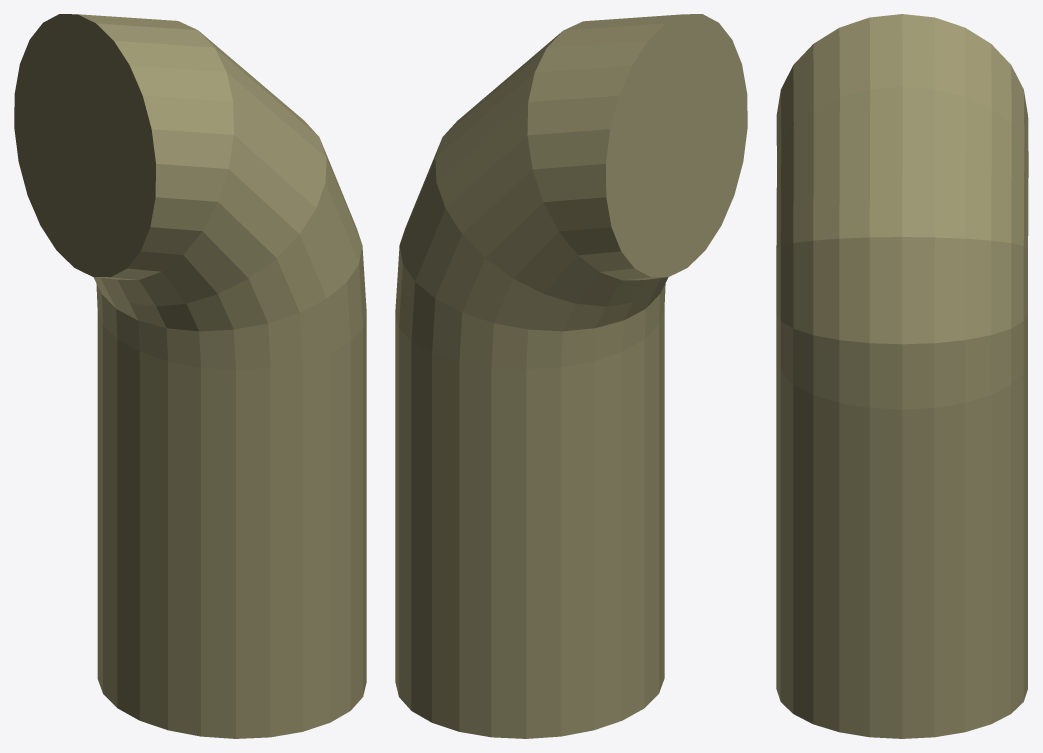
Rendered from ship-tube.dae.
The picture shows the model from 3 angles, left to right: view 1: azimuth 30°, elevation 25°; view 2: azimuth 150°, elevation 25°; view 3: azimuth 270°, elevation 25°; orthographic projection. The views are drawn at different scales.
Visible parts, largest first — view 1: ID118_002; view 2: ID118_002; view 3: ID118_002.
Part boxes in pixels (bbox=[...]): ID118_002: bbox=[14, 14, 366, 738]; ID118_002: bbox=[395, 14, 747, 738]; ID118_002: bbox=[776, 14, 1028, 738].
Bounding box in the file's own units: 0.3276 × 0.2941 × 0.7925.
